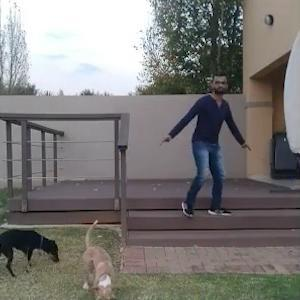land: (174, 72, 243, 226)
